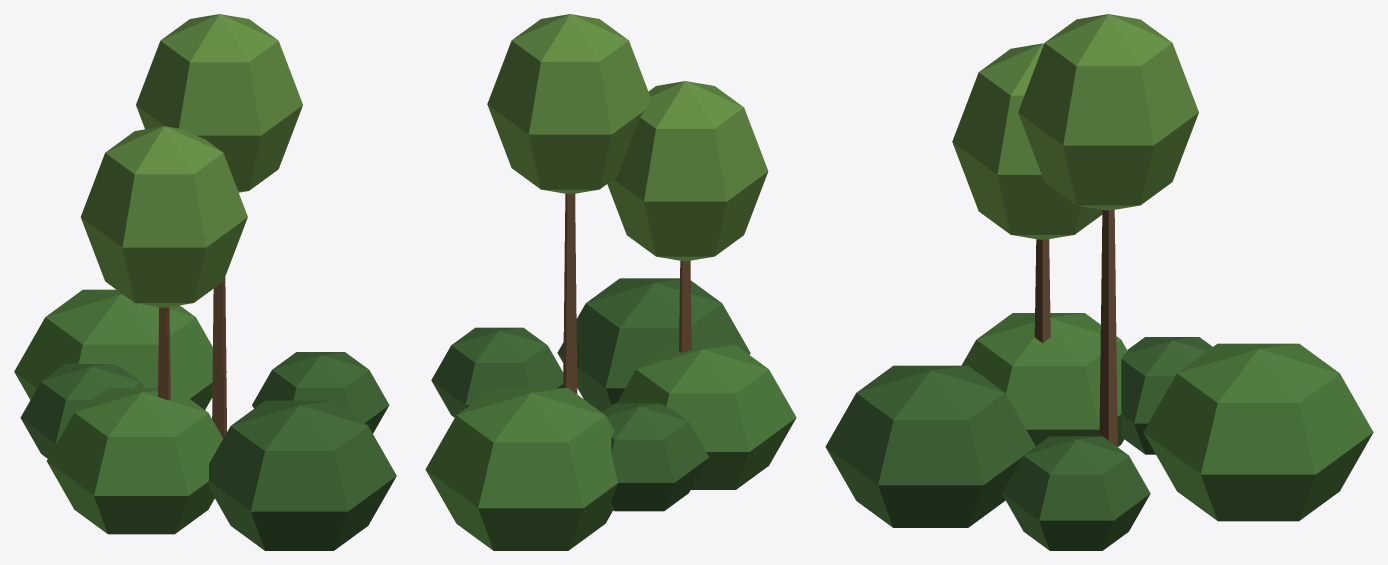
File: thicket.glb
The picture shows the model from 3 angles, left to right: view 1: azimuth 30°, elevation 25°; view 2: azimuth 150°, elevation 25°; view 3: azimuth 270°, elevation 25°; orthographic projection. The views are drawn at different scales.
Visible parts, largest first — view 1: thicket; view 2: thicket; view 3: thicket.
Part boxes in pixels (box(x1,y1,x2,y2)): thicket: box(14, 14, 396, 550); thicket: box(425, 14, 796, 550); thicket: box(825, 14, 1373, 550).
Size of the model in its own units: 2.39 by 3.47 by 3.33.
